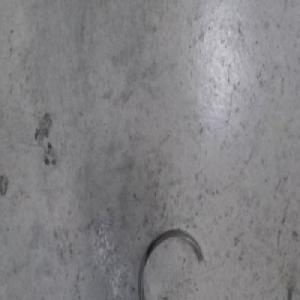AdjustableClamp: (139, 226, 207, 300)
